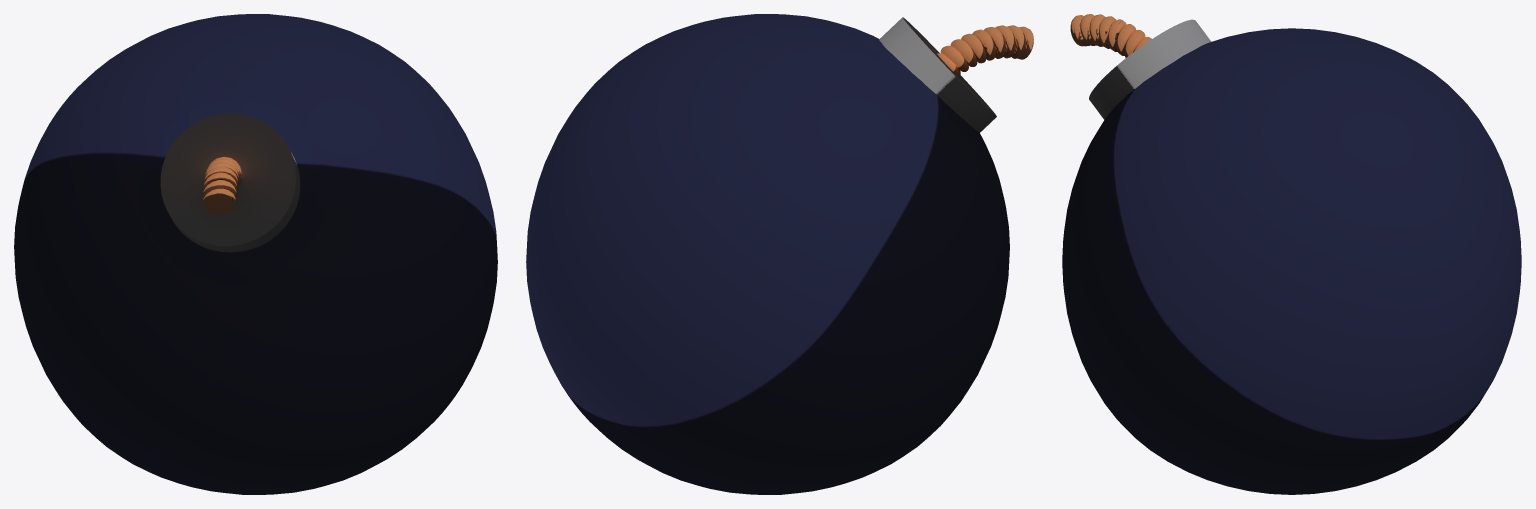
The model's file is bombwcelusingcycle.glb.
3 views of the same model, side by side, from view 1: azimuth 30°, elevation 25°; view 2: azimuth 150°, elevation 25°; view 3: azimuth 270°, elevation 25° (orthographic). The views are drawn at different scales.
Parts seen in each view (by area): view 1: Cube, Cylinder, Circle; view 2: Cube, Cylinder, Circle; view 3: Cube, Cylinder, Circle.
Part boxes in pixels (left/top/right/bottom): Cube: left=14, top=14, right=497, bottom=494; Cylinder: left=160, top=113, right=300, bottom=252; Circle: left=202, top=156, right=241, bottom=214; Cube: left=526, top=14, right=1009, bottom=494; Cylinder: left=879, top=17, right=996, bottom=132; Circle: left=937, top=25, right=1033, bottom=76; Cube: left=1062, top=28, right=1521, bottom=494; Cylinder: left=1089, top=19, right=1211, bottom=119; Circle: left=1070, top=14, right=1151, bottom=57.
Size of the model in its own units: 0.5541 by 0.5541 by 0.5541.
Materials: 3 (3 with a texture image).
